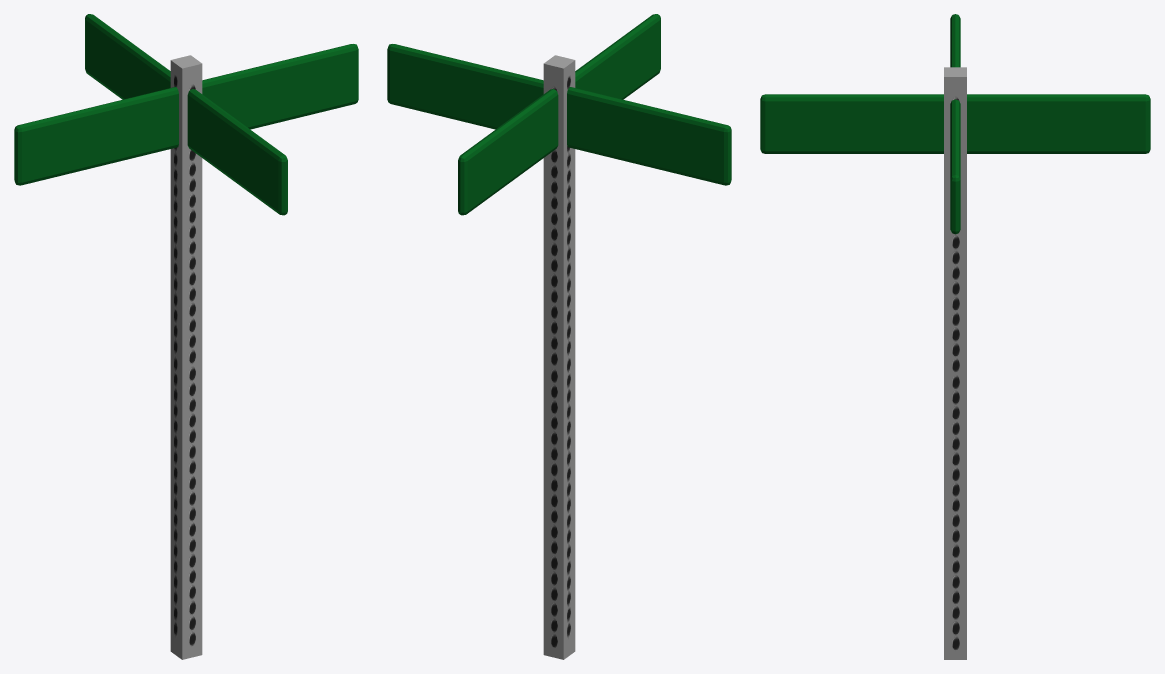
Rendered from mod_structure_roadsign_streets.fbx.
The picture shows the model from 3 angles, left to right: view 1: azimuth 30°, elevation 25°; view 2: azimuth 150°, elevation 25°; view 3: azimuth 270°, elevation 25°; orthographic projection.
Visible parts, largest first — view 1: mesh_roadsign, sign1.001, sign1.002, sign1.003, sign1; view 2: mesh_roadsign, sign1.001, sign1.002, sign1, sign1.003; view 3: mesh_roadsign, sign1, sign1.003, sign1.002, sign1.001.
Boxes of the visible parts, box(x1,y1,x2,y2) form: mesh_roadsign: box(170, 55, 202, 659); sign1.001: box(14, 87, 178, 185); sign1.002: box(202, 44, 358, 129); sign1.003: box(187, 89, 287, 215); sign1: box(85, 14, 170, 99); mesh_roadsign: box(543, 55, 575, 659); sign1.001: box(567, 87, 731, 185); sign1.002: box(387, 44, 543, 129); sign1: box(458, 89, 558, 215); sign1.003: box(575, 14, 660, 99); mesh_roadsign: box(944, 67, 966, 659); sign1: box(967, 94, 1150, 153); sign1.003: box(760, 94, 943, 153); sign1.002: box(950, 99, 960, 234); sign1.001: box(950, 14, 960, 67).
Bounding box in the file's own units: 680 × 1120 × 680.
